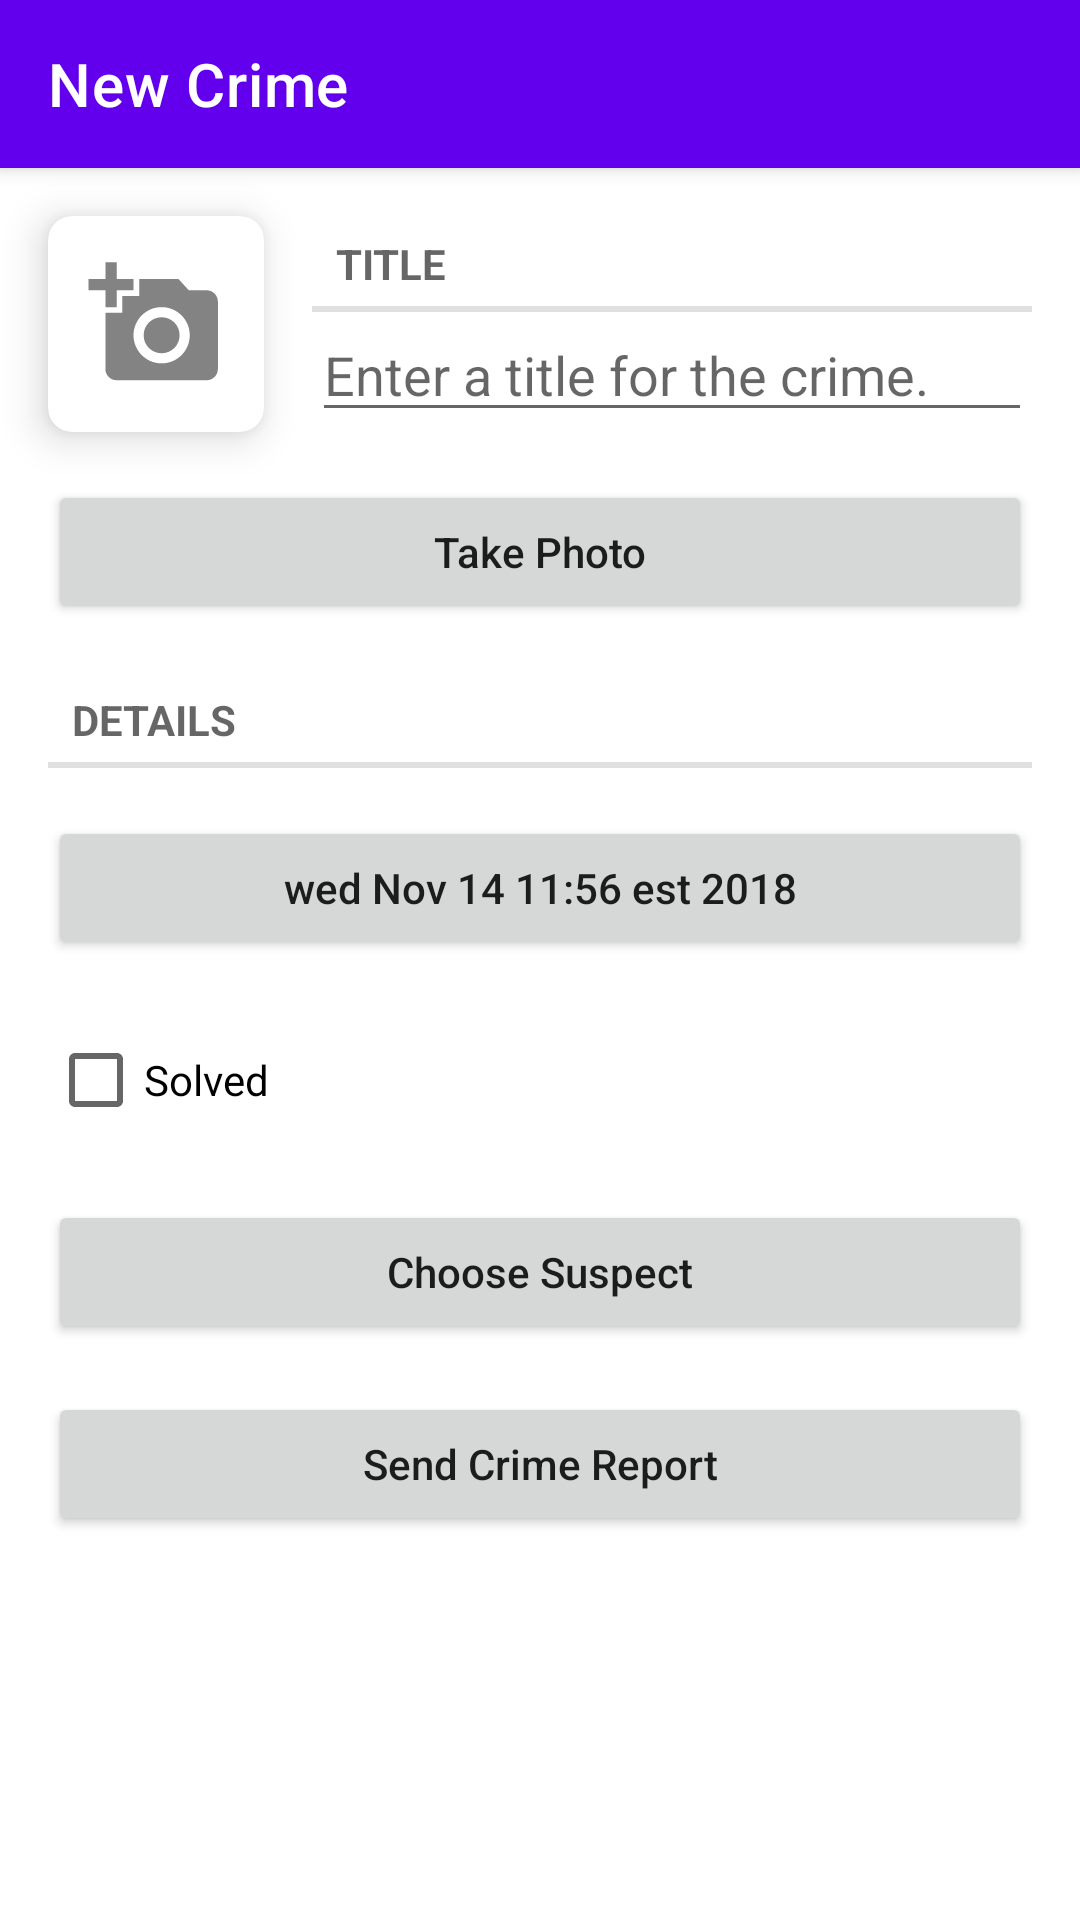

Named icons in this screenshot (1080x1920) and their centers, (x=x, y=y):
add photo: (x=153, y=321)
